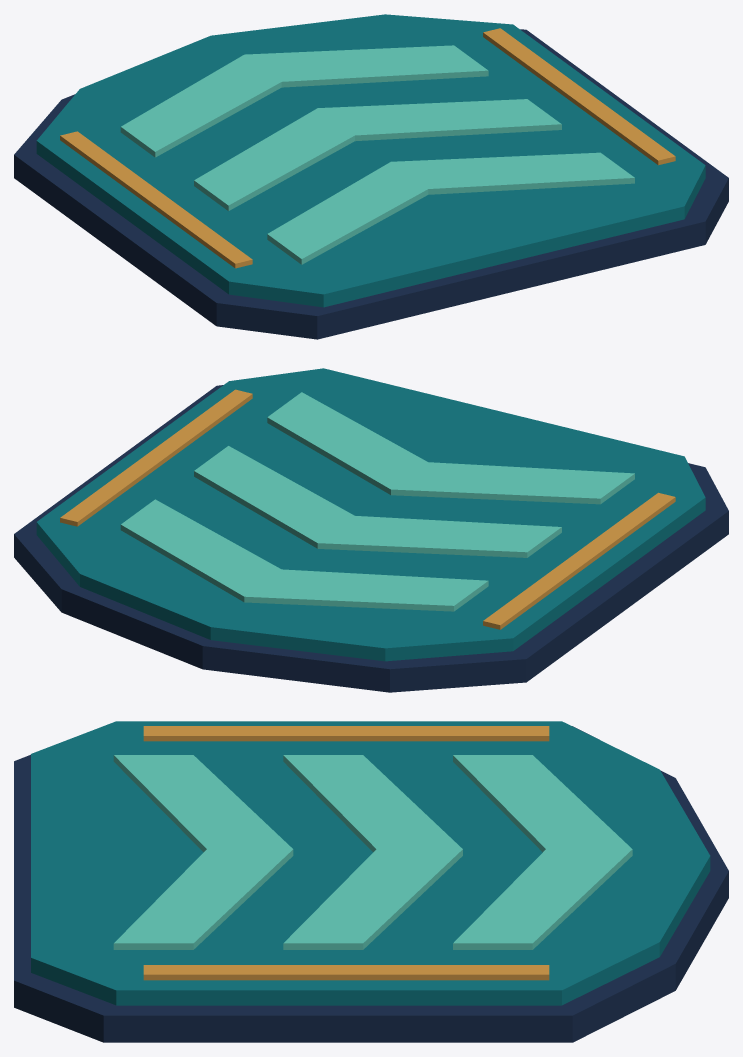
The model's file is wind_pad.glb.
The picture shows the model from 3 angles, top to bottom: view 1: azimuth 30°, elevation 25°; view 2: azimuth 150°, elevation 25°; view 3: azimuth 270°, elevation 25°; orthographic projection. The views are drawn at different scales.
Visible parts, largest first — view 1: wind_pad; view 2: wind_pad; view 3: wind_pad.
Boxes of the visible parts, x1,y1,x2,y2 form: wind_pad: (14,14,728,339); wind_pad: (14,368,728,692); wind_pad: (14,721,728,1042).
Size of the model in its own units: 2.06 by 0.162 by 2.15.
